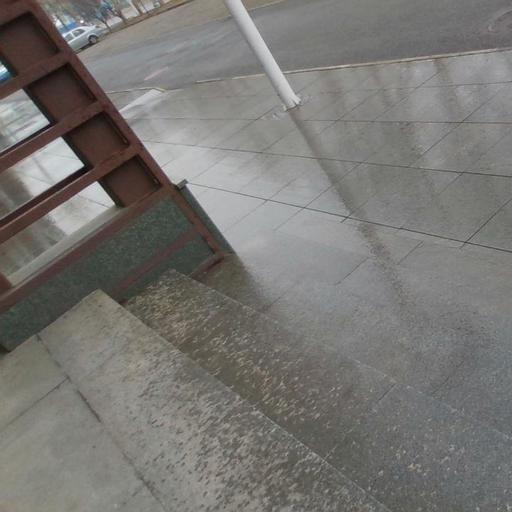stairs: (127, 272, 511, 511), (0, 292, 386, 511)
